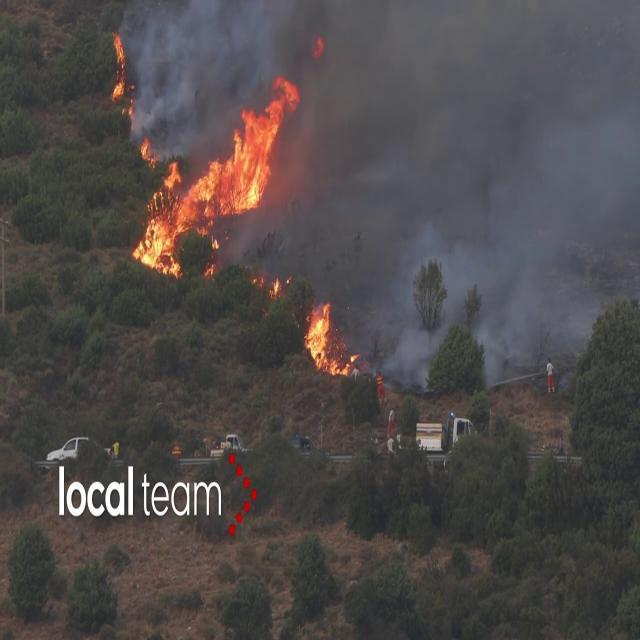Fire: (126, 90, 298, 279), (300, 298, 360, 378)
Smoke: (261, 0, 640, 370)
